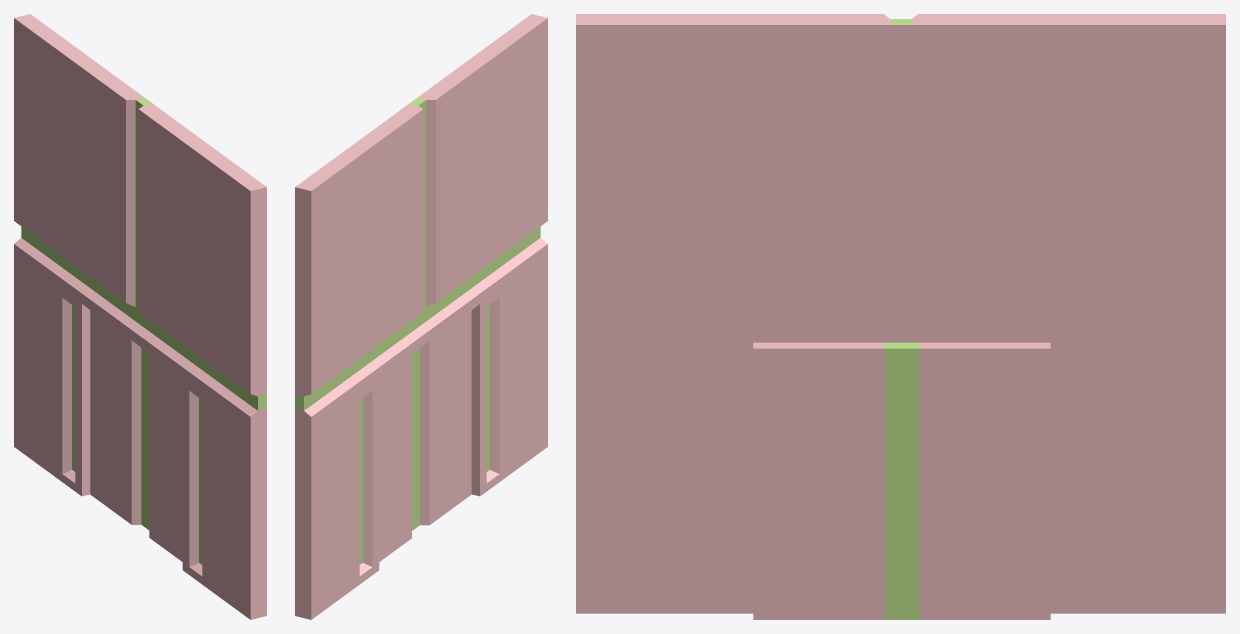
File: Door Wall.fbx
3 renders of one model, left to right at view 1: azimuth 30°, elevation 25°; view 2: azimuth 150°, elevation 25°; view 3: azimuth 270°, elevation 25°, orthographic. The views are drawn at different scales.
Visible parts, largest first — view 1: Cube, Cube.002, Cube.001; view 2: Cube, Cube.001, Cube.002; view 3: Cube, Cube.001, Cube.002.
Boxes of the visible parts, x1,y1,x2,y2 form: Cube: (14,14,266,619); Cube.002: (90,310,149,528); Cube.001: (146,353,182,561); Cube: (295,14,547,619); Cube.001: (412,310,471,530); Cube.002: (379,352,414,561); Cube: (576,14,1225,613); Cube.001: (753,342,905,619); Cube.002: (898,342,1050,619).
Size of the model in its own units: 30.49 by 500 by 500.
